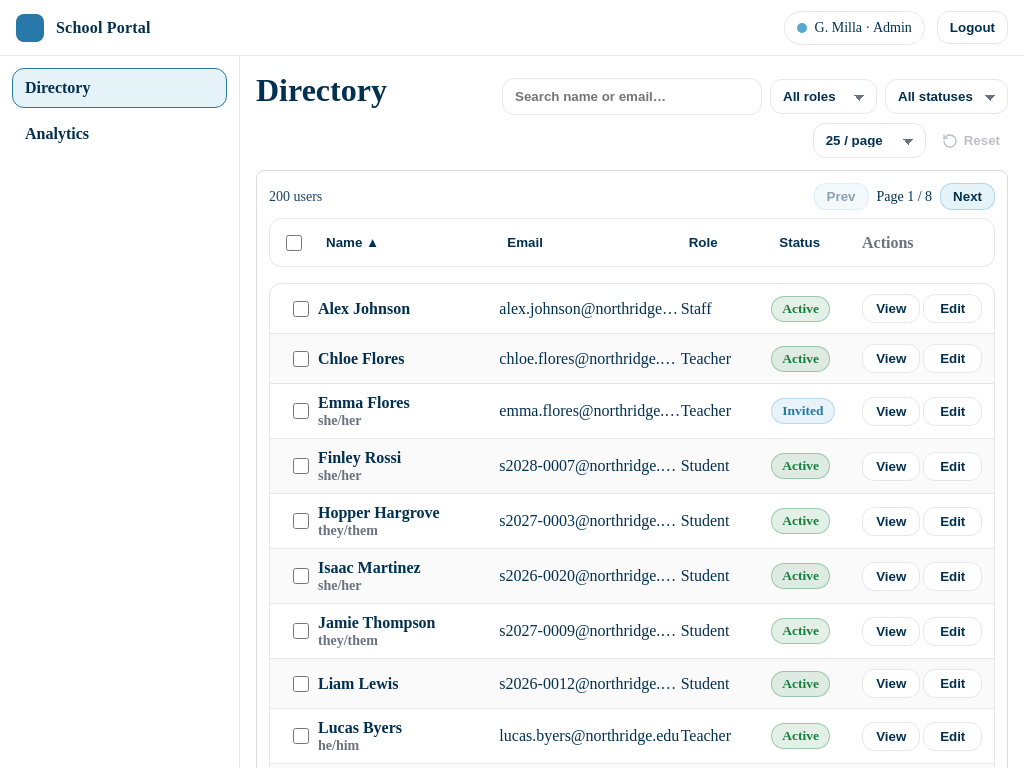
Test: Directory filtering & pagination (admin) › changes page size and paginates
The image size is (1024, 768).
Expected: the heading "Directory" is shown, [256,72,387,109]
Select "10 / page" in the dropdown named "Page size" at (870, 141), box [813,123,926,158]
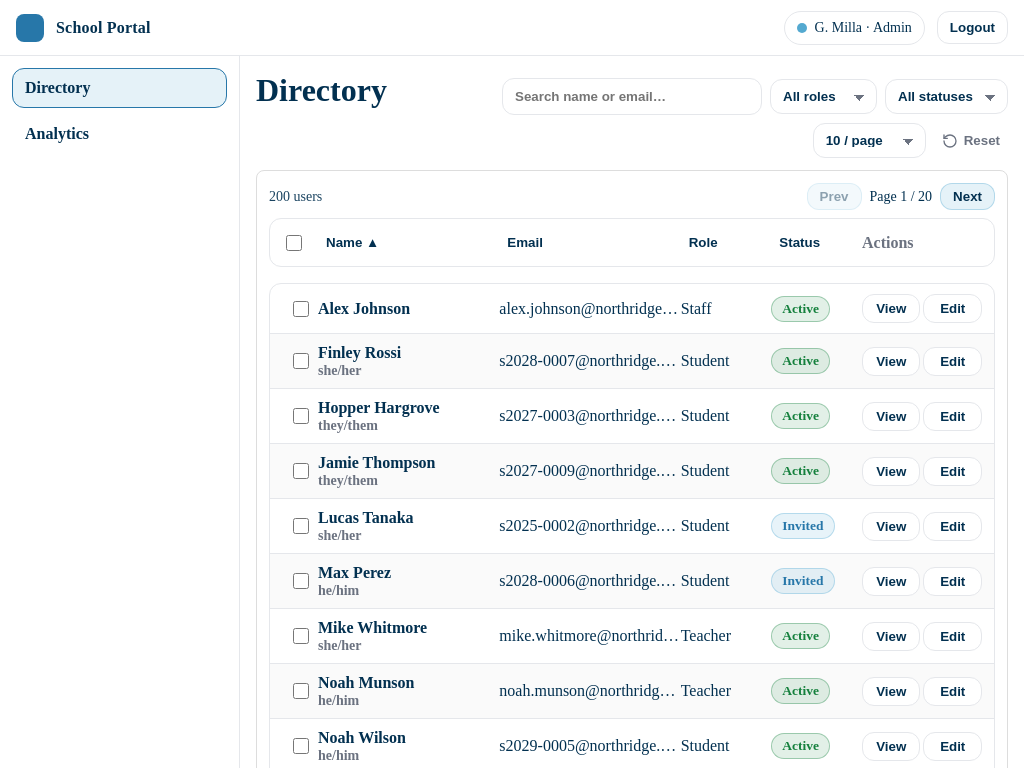
Click the button "Next" at (968, 197), box [940,183,995,210]
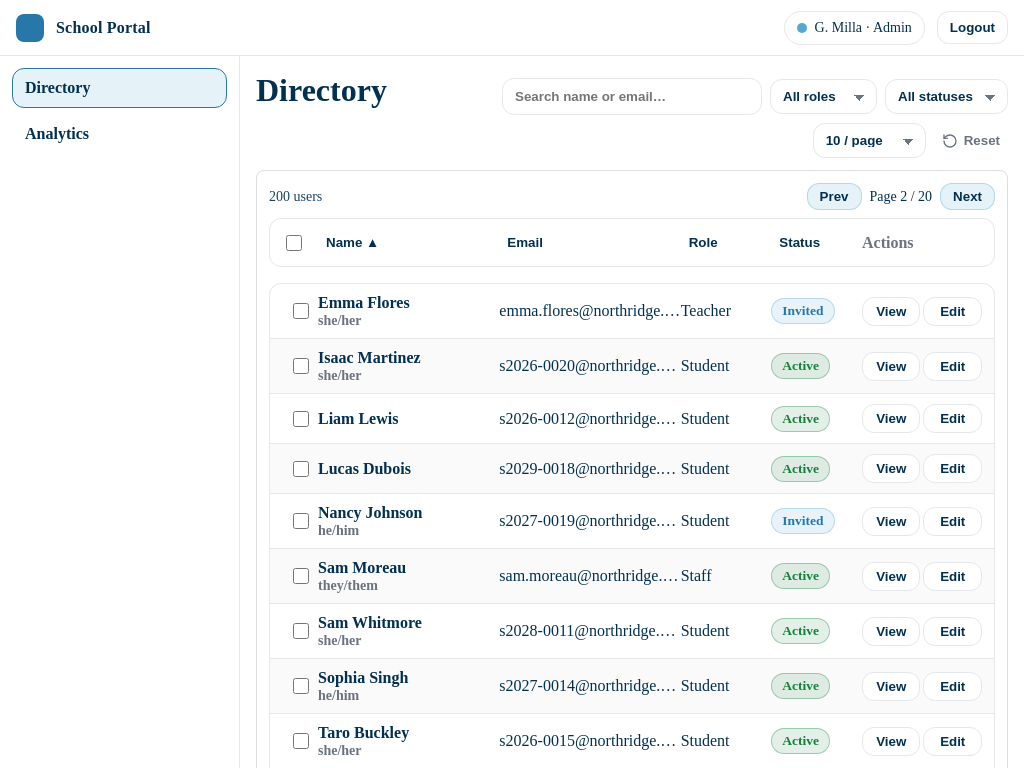
Expected: the text "Page 2 / 20" is shown, [870,189,932,205]
Expected: the button "Prev" is enabled
Click the button "Prev" at (835, 197), box [807,183,862,210]
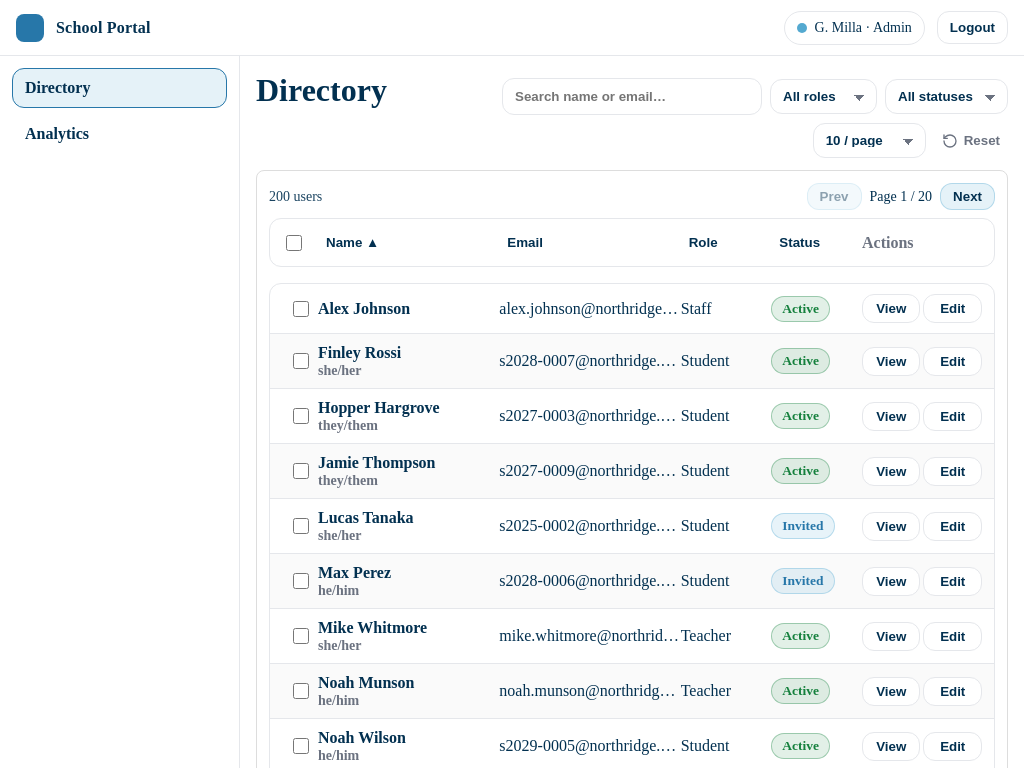
Expected: the text "Page 1 / 20" is shown, [870,189,932,205]
